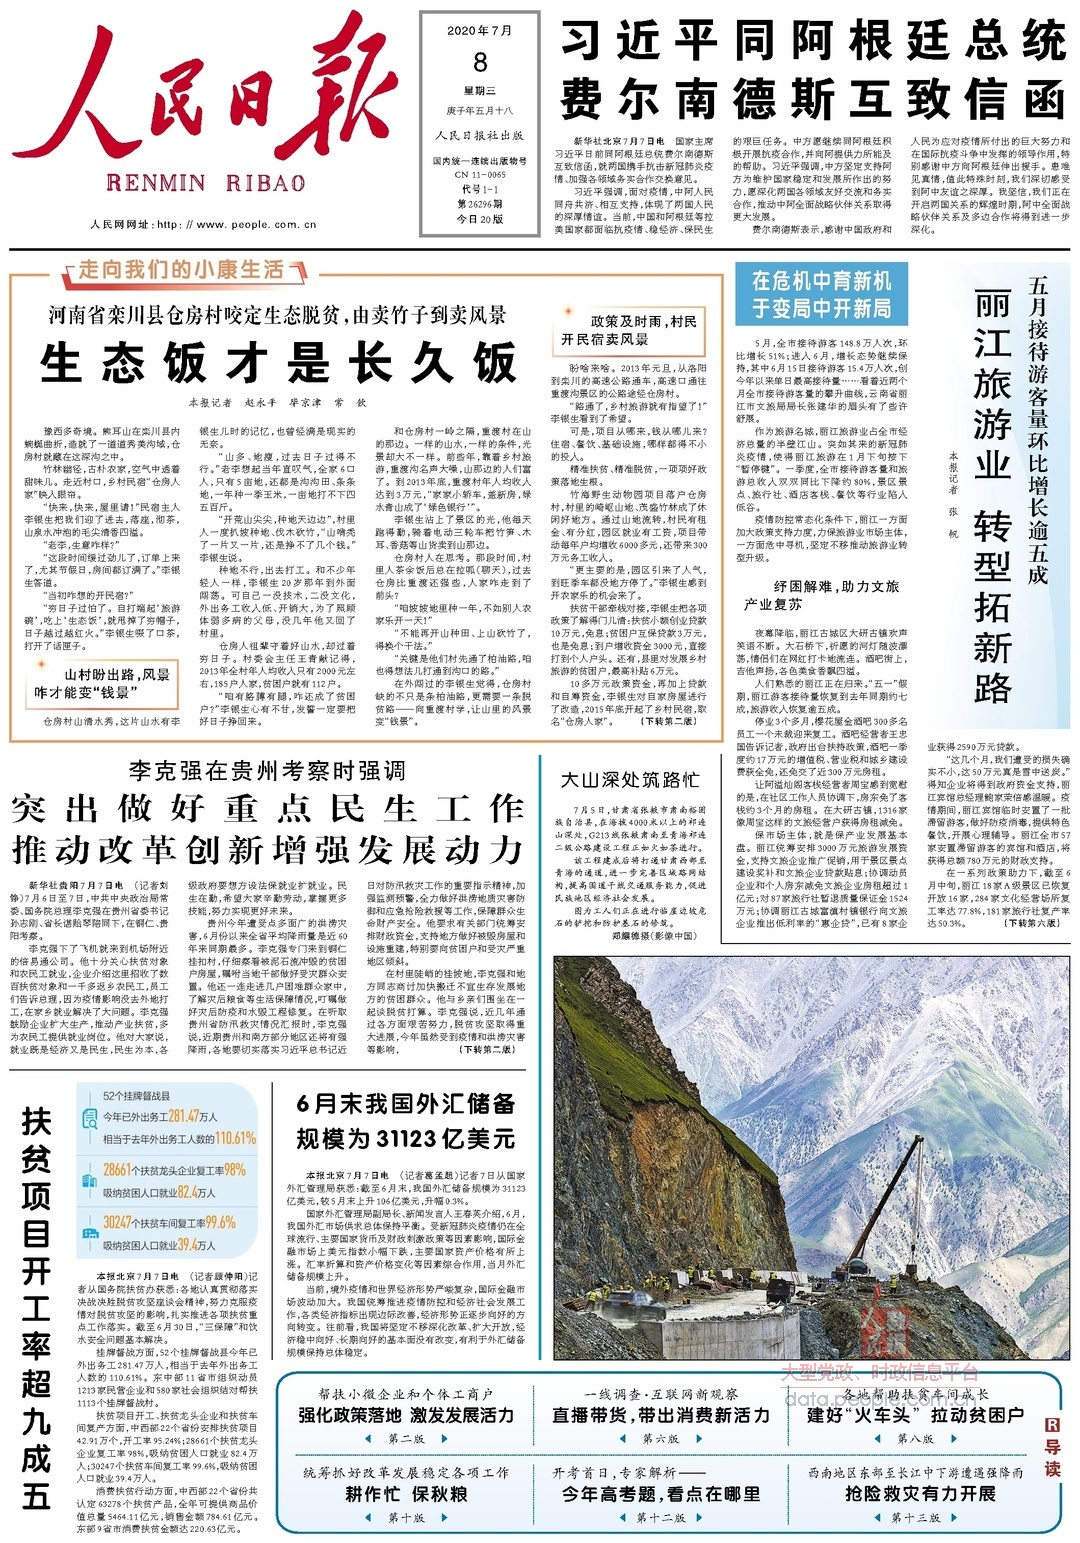pic: (550, 951, 1076, 1364)
